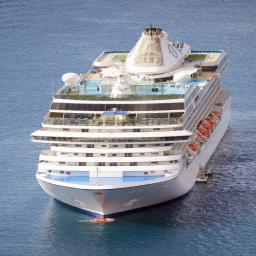cruises: (34, 24, 238, 219)
